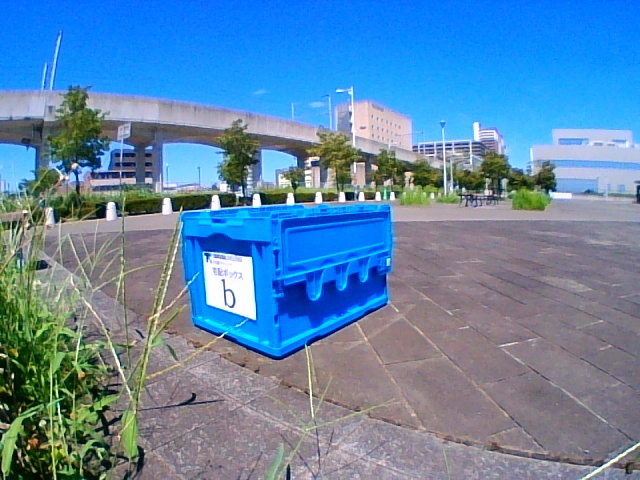blue_box: (193, 210, 355, 322)
tag_b: (213, 270, 252, 308)
